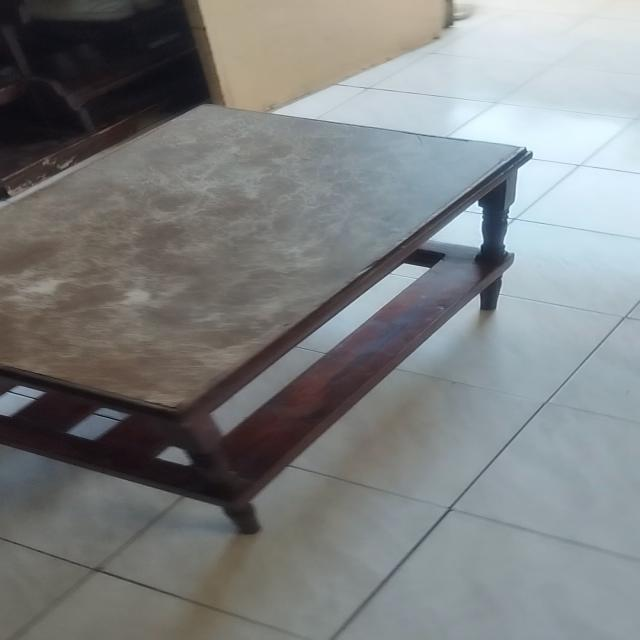table: (0, 97, 534, 547)
